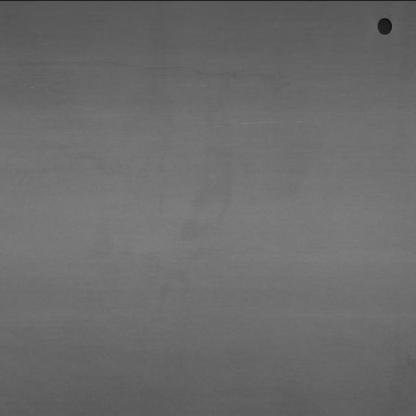punching_hole: (374, 15, 398, 36)
